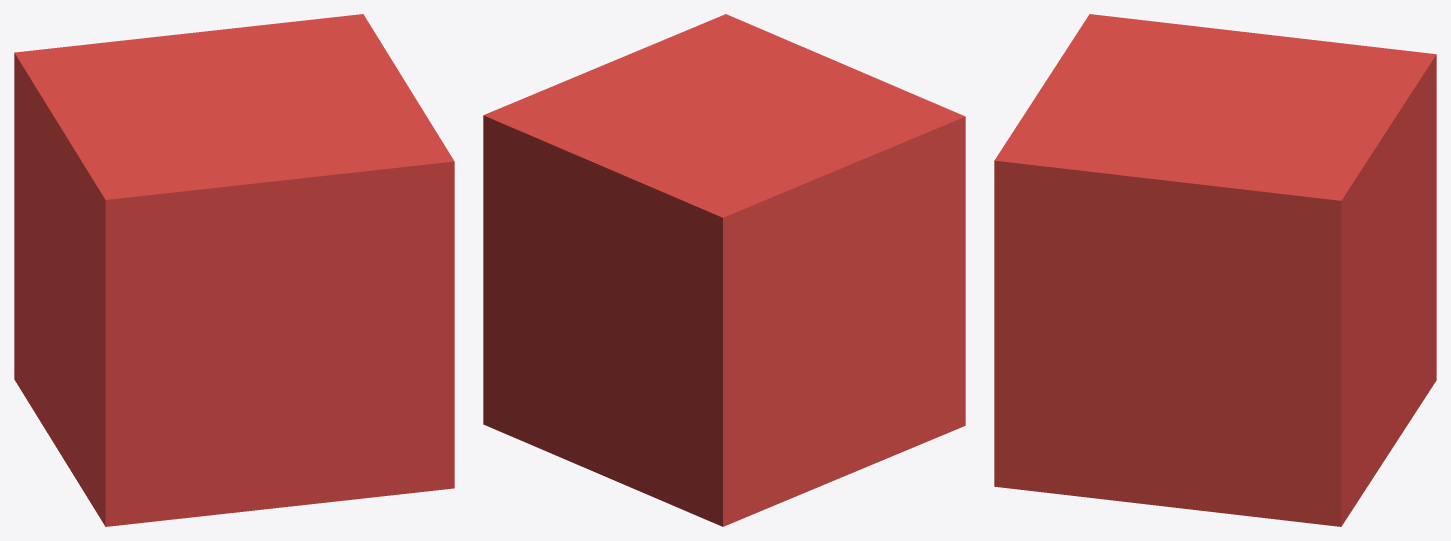
File: red_cube.glb
The picture shows the model from 3 angles, left to right: view 1: azimuth 30°, elevation 25°; view 2: azimuth 150°, elevation 25°; view 3: azimuth 270°, elevation 25°; orthographic projection. The views are drawn at different scales.
Parts seen in each view (by area): view 1: Cube; view 2: Cube; view 3: Cube.
Boxes of the visible parts, box(x1,y1,x2,y2) form: Cube: box(14, 14, 454, 526); Cube: box(483, 14, 965, 526); Cube: box(994, 14, 1436, 526).
Size of the model in its own units: 2.46 by 2 by 2.46.
